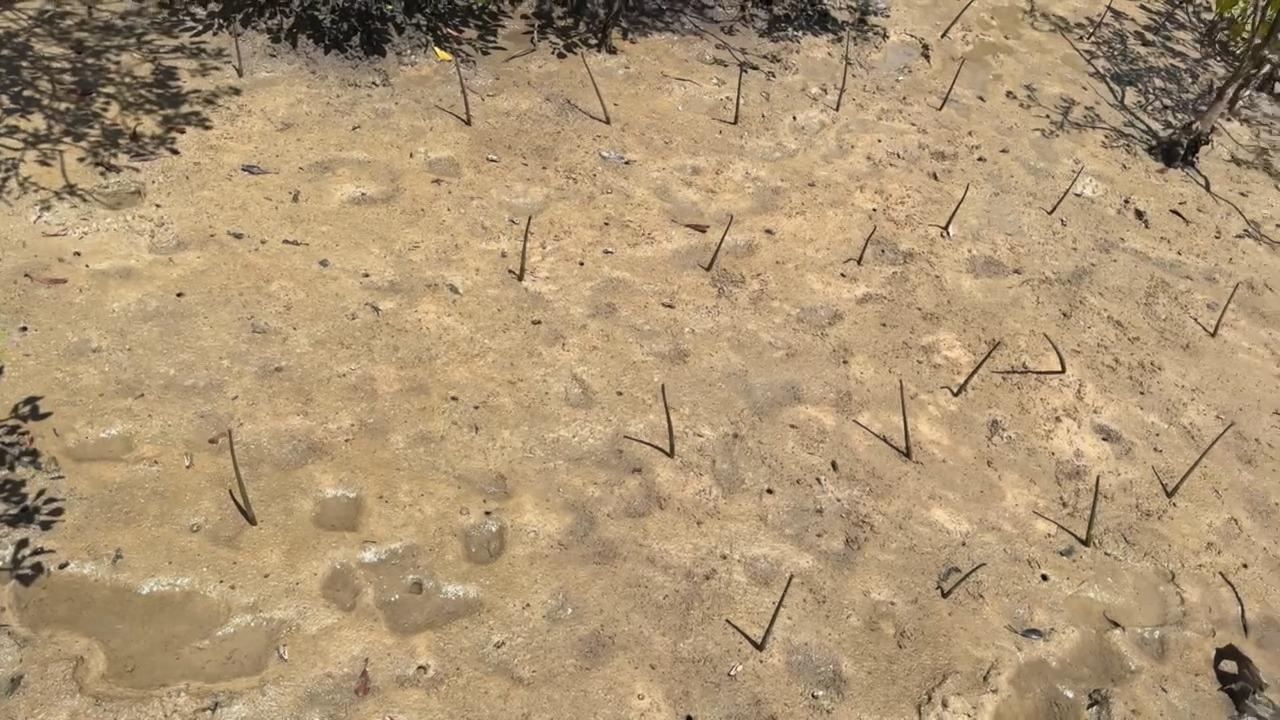Tree: (1168, 423, 1232, 498), (228, 430, 258, 526), (759, 574, 795, 652), (954, 342, 1003, 396), (582, 52, 610, 125), (451, 43, 473, 126), (1048, 166, 1083, 215), (944, 562, 986, 600), (1211, 282, 1239, 337), (707, 215, 734, 270), (939, 59, 964, 110), (1084, 477, 1102, 547), (944, 183, 970, 230), (661, 383, 677, 459), (899, 380, 914, 460), (835, 33, 850, 112), (942, 0, 973, 38), (1086, 0, 1112, 39), (1044, 332, 1068, 373), (517, 215, 531, 283), (857, 225, 878, 264), (735, 67, 745, 125), (233, 24, 243, 78)
